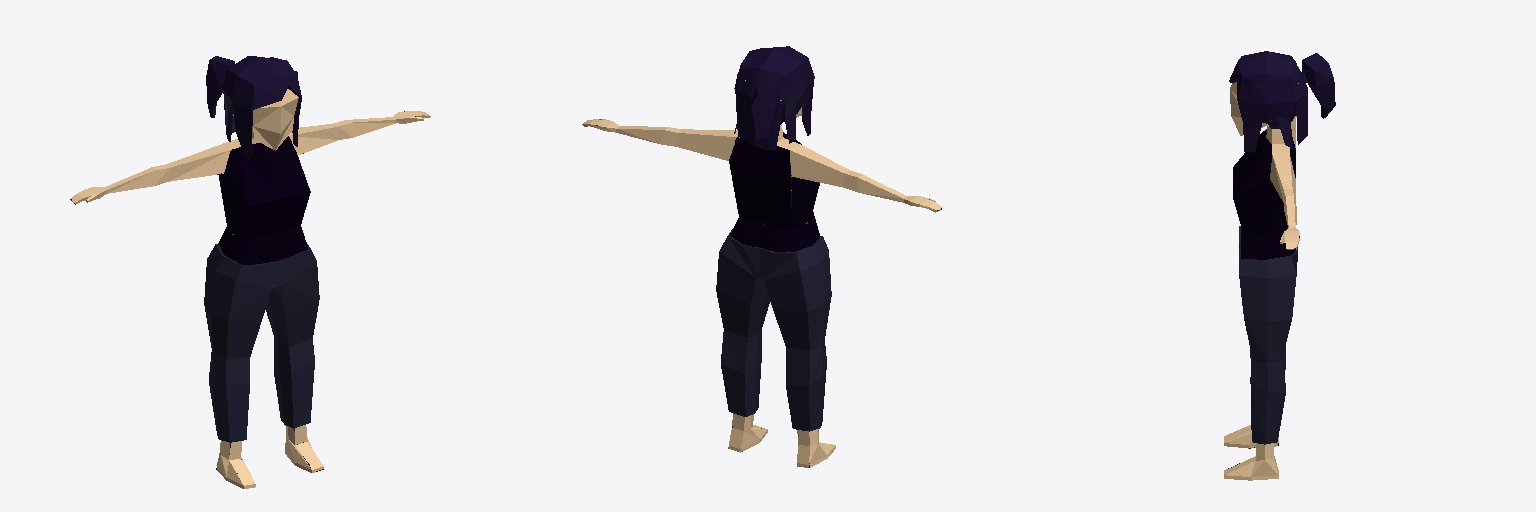
3 renders of one model, left to right at view 1: azimuth 30°, elevation 25°; view 2: azimuth 150°, elevation 25°; view 3: azimuth 270°, elevation 25°, orthographic.
Parts seen in each view (by area): view 1: Body; view 2: Body; view 3: Body.
Boxes of the visible parts, box(x1,y1,x2,y2) form: Body: box(70, 56, 430, 488); Body: box(582, 46, 942, 467); Body: box(1224, 51, 1335, 480).
Bounding box in the file's own units: 10.48 × 11.49 × 2.84.
Materials: 1 (1 with a texture image).